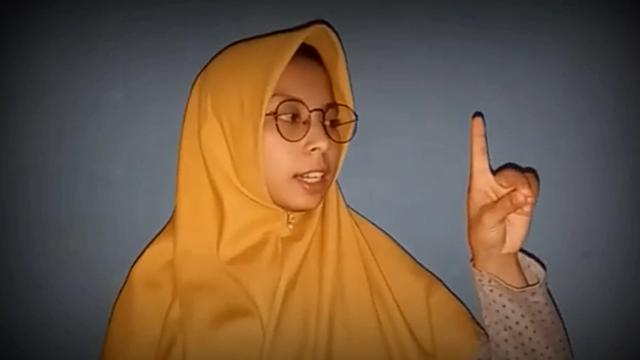D: (462, 113, 542, 263)
